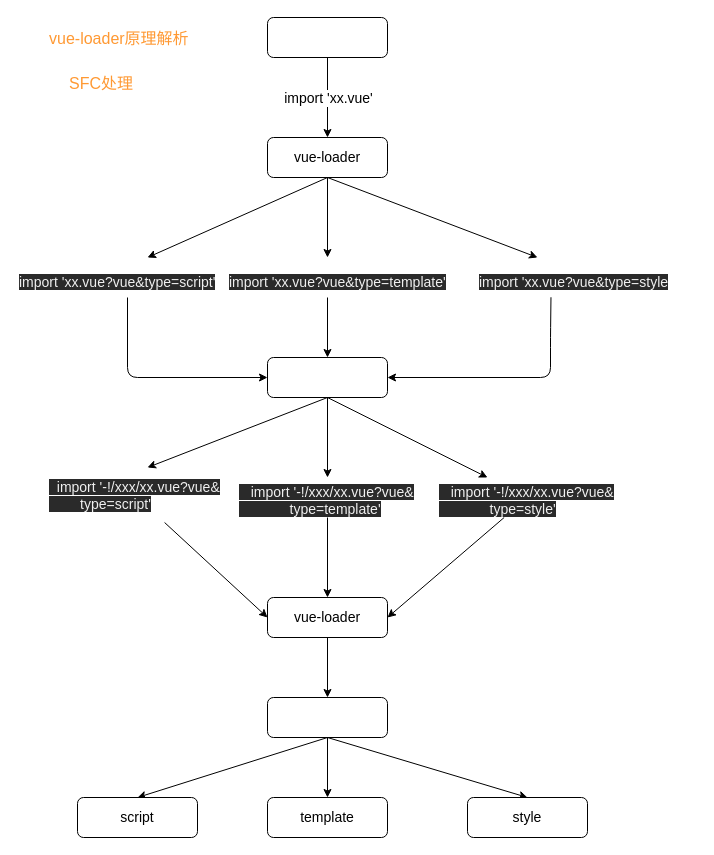
The diagram is 714 pixels wide and 855 high, and some of its shapes have lost their labels. Here are the shapes that lost their labels. From the top down, the box of each, then its label:
(266, 16, 388, 58): webpack
(266, 356, 388, 398): pitcher-loader
(266, 696, 388, 738): selectBlock
